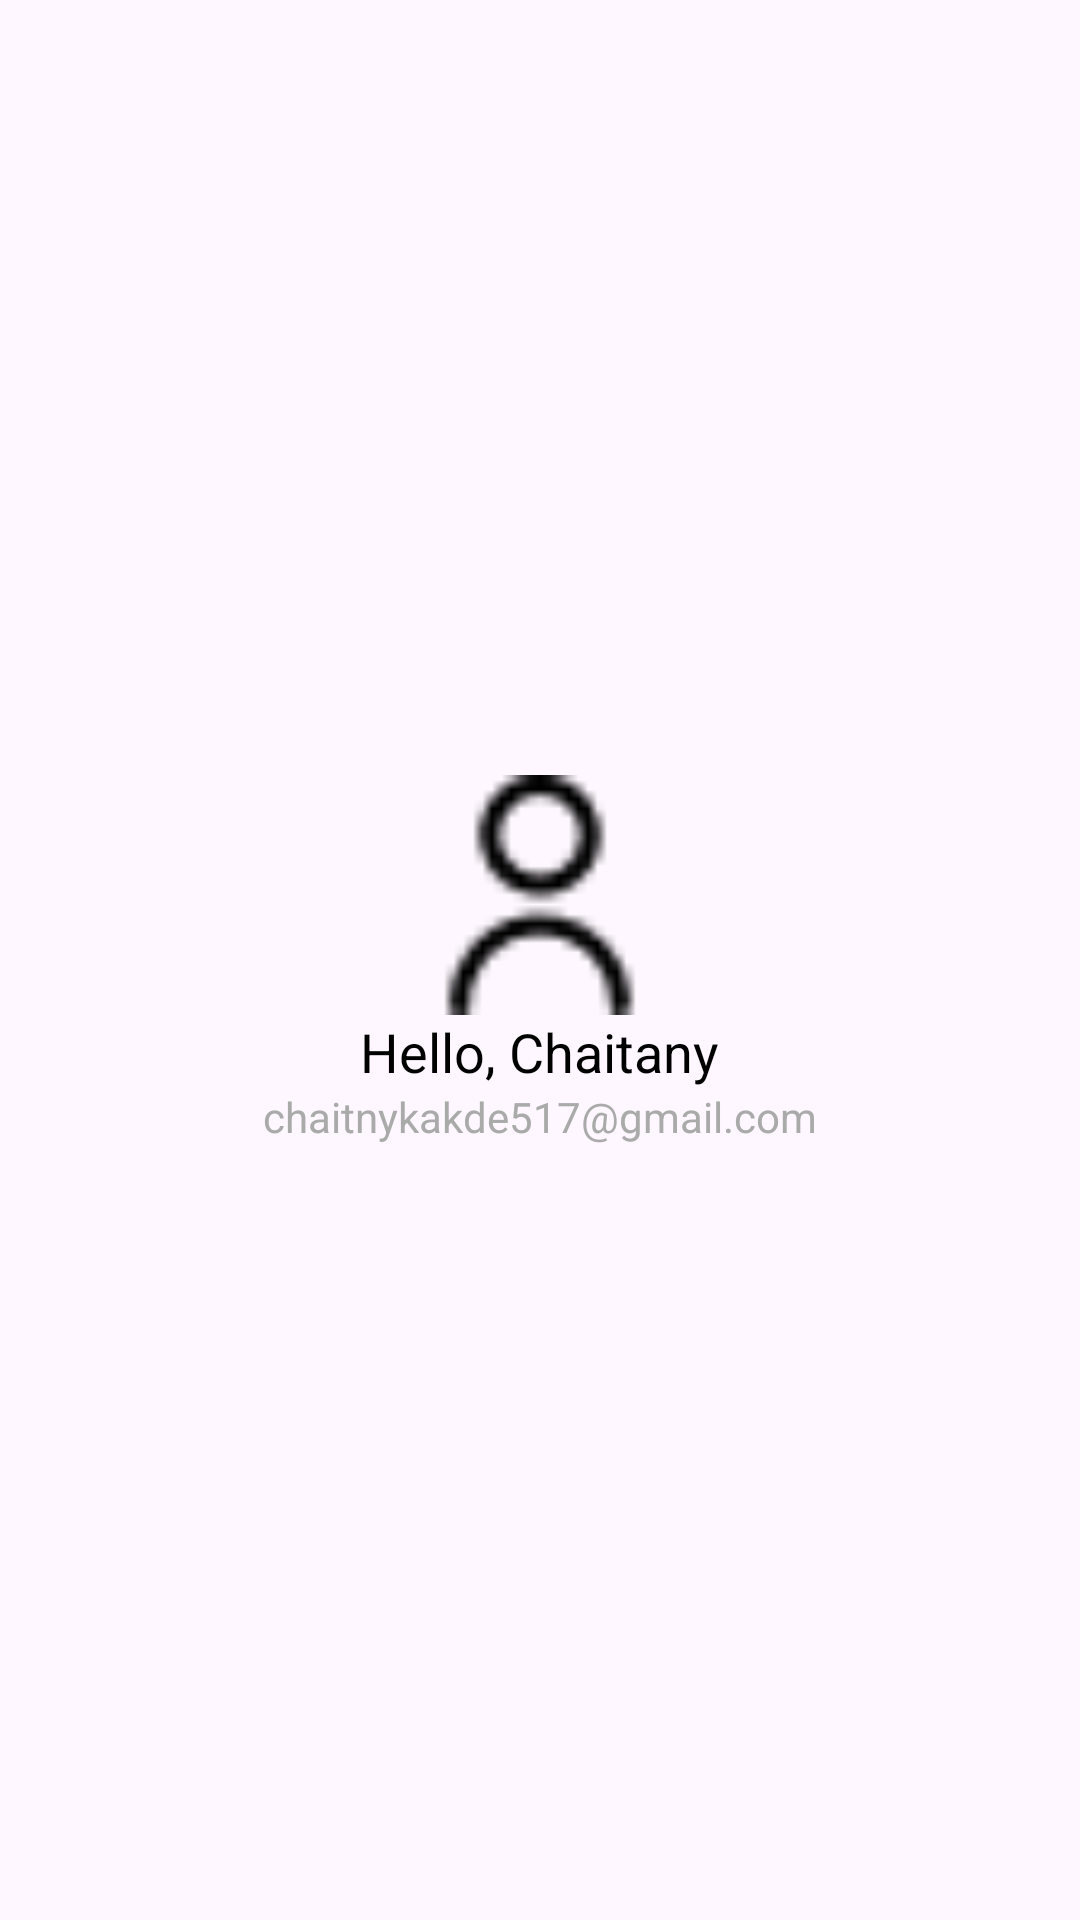

Icons on this 1080*1920 Android screen, each with the point to tap as (x=x, y=y):
Profile: (x=540, y=895)
